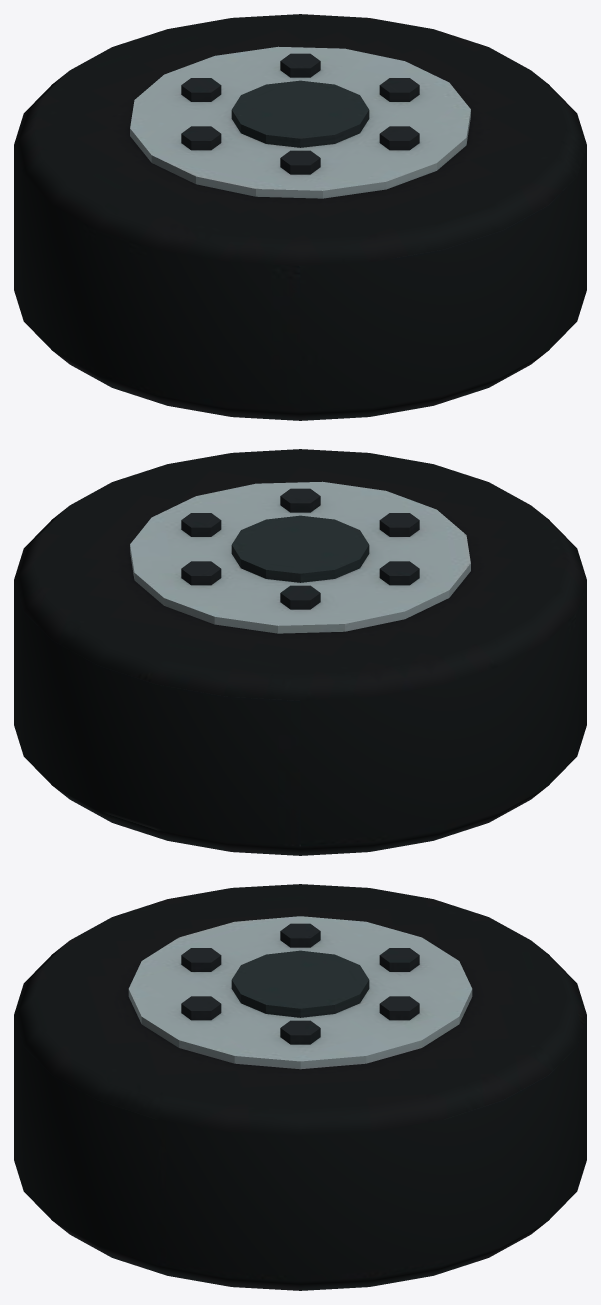
The model's file is wheel.obj.
3 renders of one model, top to bottom at view 1: azimuth 30°, elevation 25°; view 2: azimuth 150°, elevation 25°; view 3: azimuth 270°, elevation 25°, orthographic.
Parts seen in each view (by area): view 1: wheel; view 2: wheel; view 3: wheel.
Part boxes in pixels (<box>): wheel: <box>14,14,586,420</box>; wheel: <box>14,449,586,855</box>; wheel: <box>14,884,586,1290</box>.
Bounding box in the file's own units: 0.1 × 0.0416 × 0.1.
2 materials, 2 textured.
